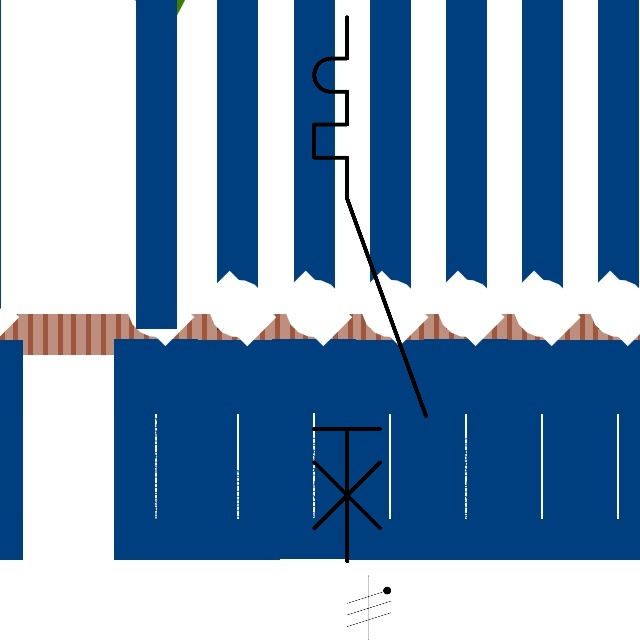interruptor_termomagnetico: (300, 3, 440, 575)
